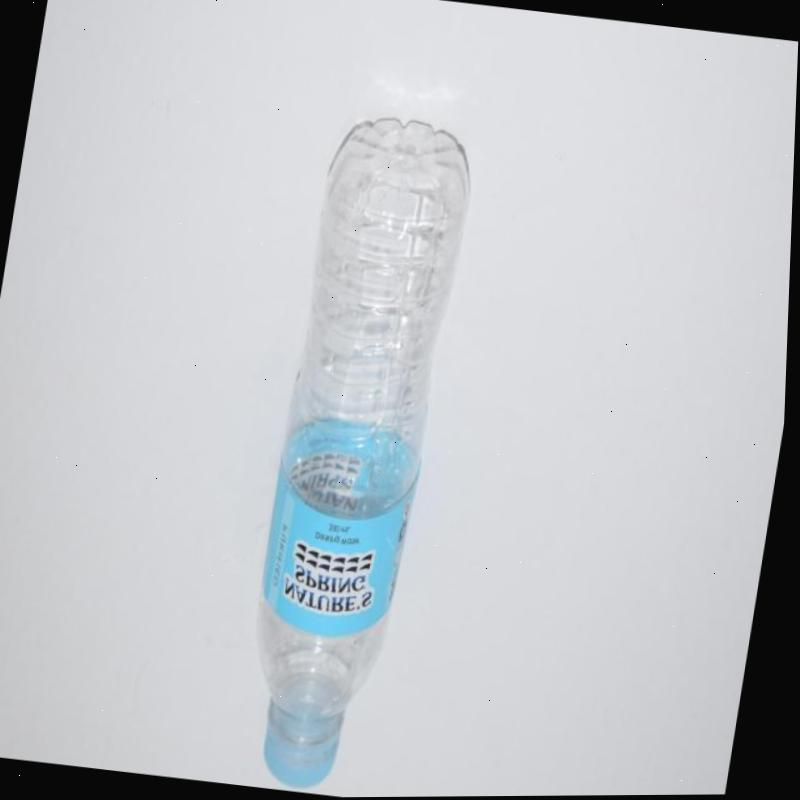botella: (231, 109, 488, 799)
